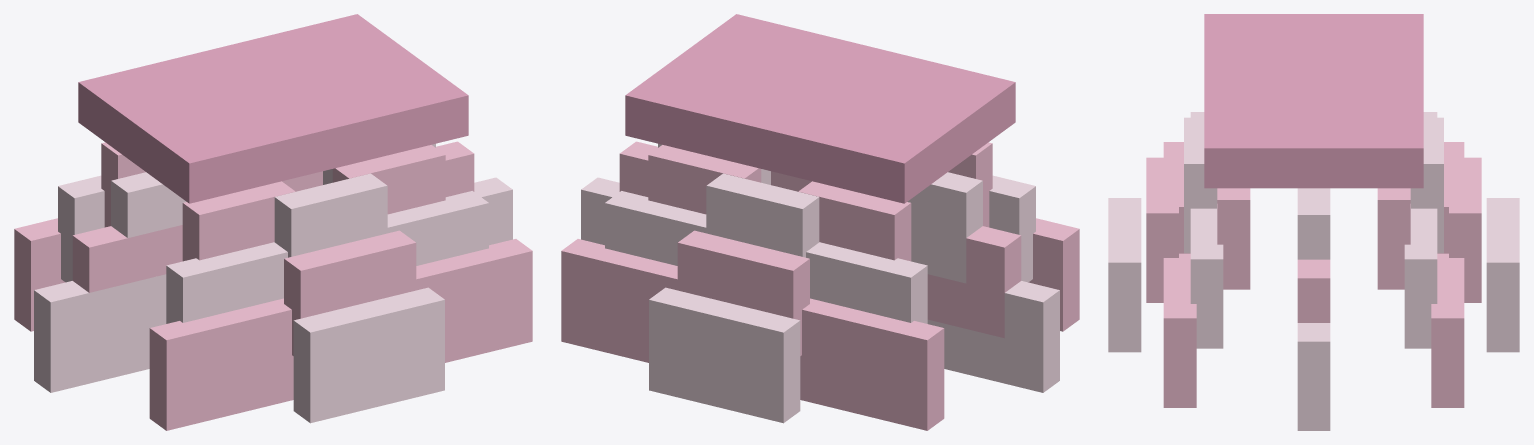
The model's file is fada_saia.glb.
The picture shows the model from 3 angles, left to right: view 1: azimuth 30°, elevation 25°; view 2: azimuth 150°, elevation 25°; view 3: azimuth 270°, elevation 25°; orthographic projection.
Parts seen in each view (by area): view 1: fada_saia; view 2: fada_saia; view 3: fada_saia.
Boxes of the visible parts, x1=… form: fada_saia: x1=14, y1=14, x2=532, y2=430; fada_saia: x1=561, y1=14, x2=1079, y2=430; fada_saia: x1=1108, y1=14, x2=1519, y2=430.
Size of the model in its own units: 0.96 by 0.48 by 0.75.
